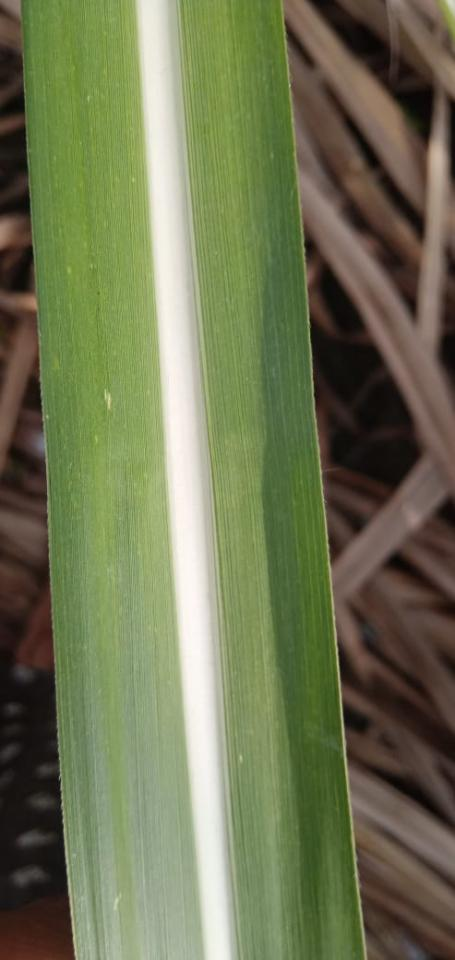Healthy: (23, 0, 365, 959)
